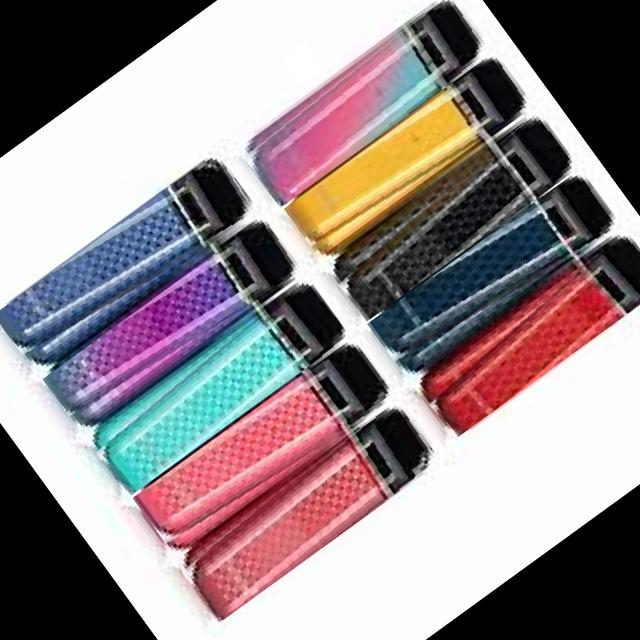Hazard: (172, 396, 442, 624), (131, 337, 397, 559), (0, 151, 262, 376), (84, 276, 349, 497), (42, 215, 306, 432), (366, 168, 622, 382), (235, 0, 493, 208), (324, 111, 576, 322), (282, 54, 533, 261), (413, 229, 640, 439)
